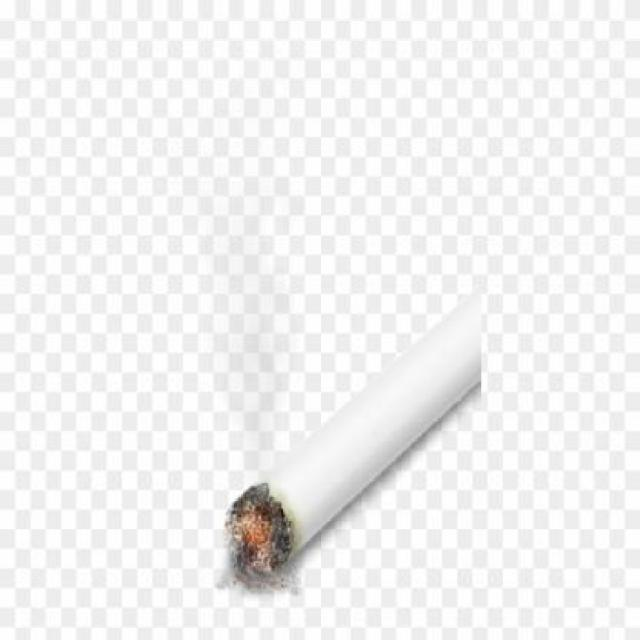cigarette: (235, 313, 502, 587)
